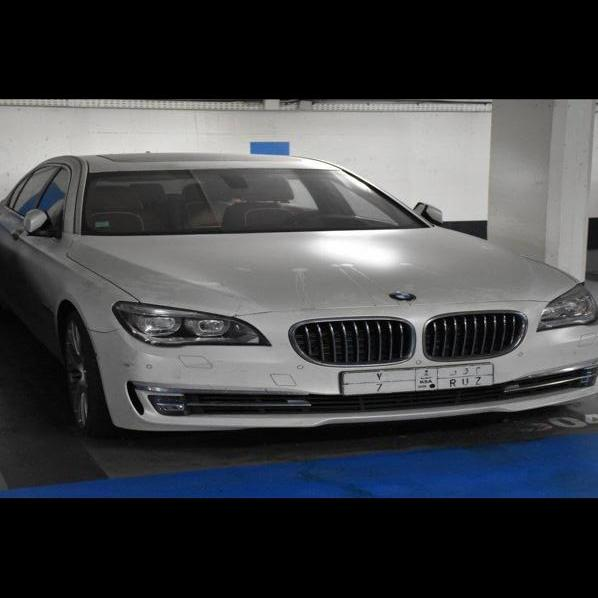numberplate: (335, 364, 498, 399)
